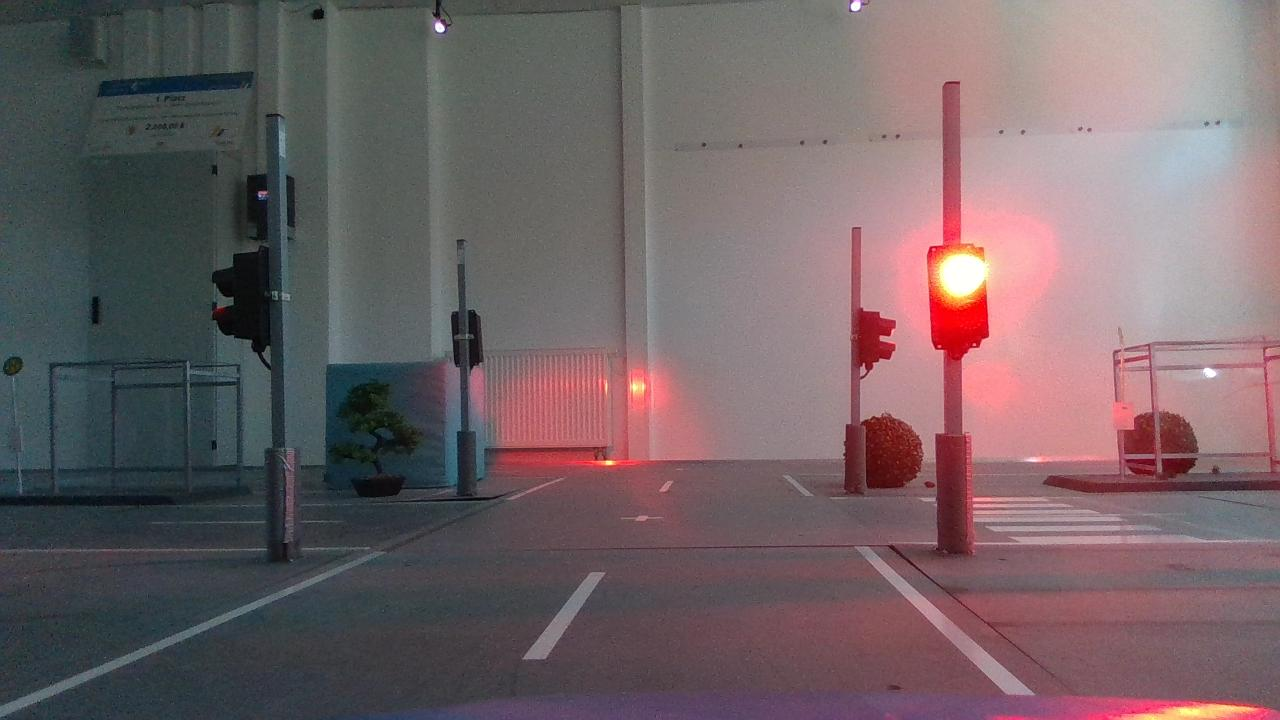traffic_light_red: (921, 234, 1006, 357)
